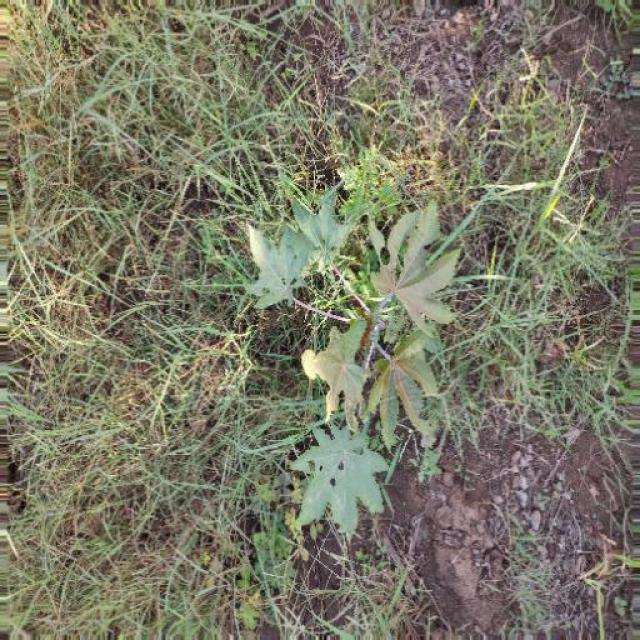weed: (58, 71, 612, 560)
